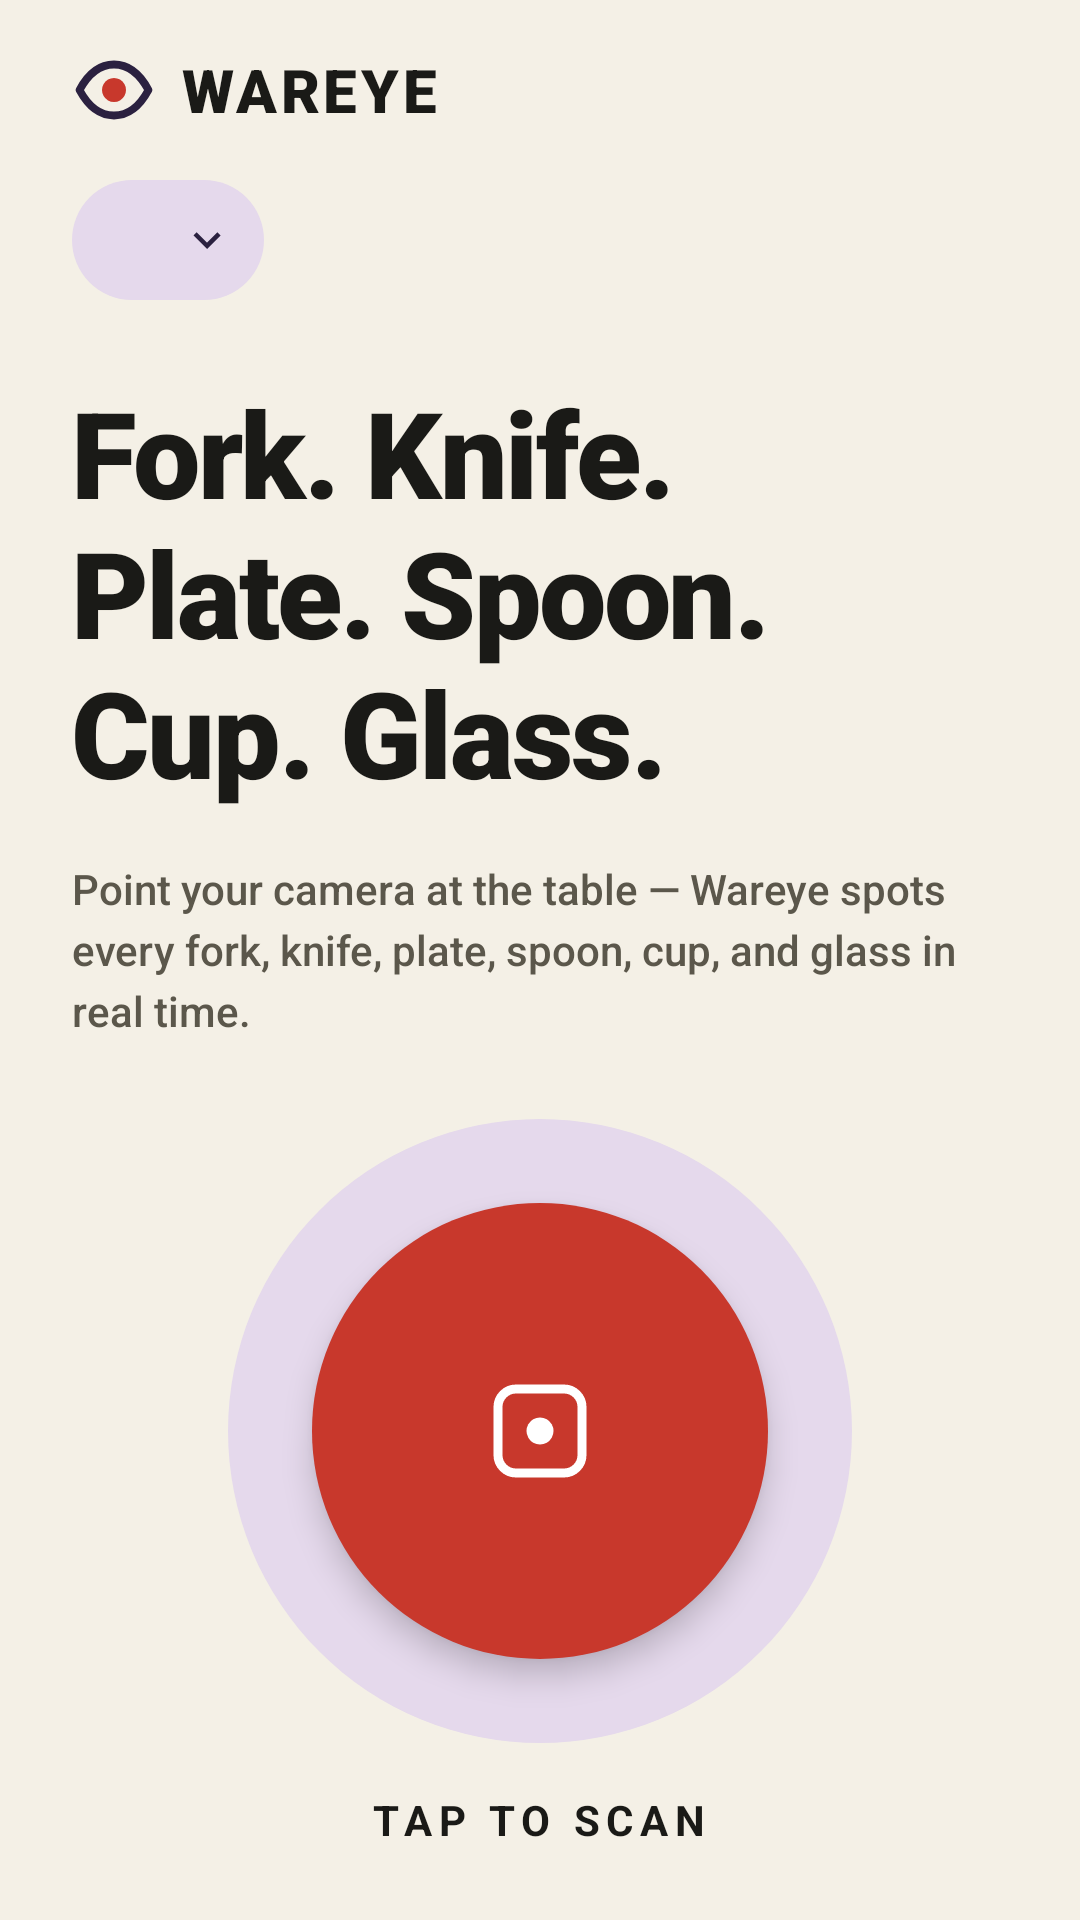

Where icons sit on this 1080 × 1920 app screen, as (x1, y1, x2, y2):
chevron: (193, 232, 221, 249)
eye: (75, 60, 153, 120)
